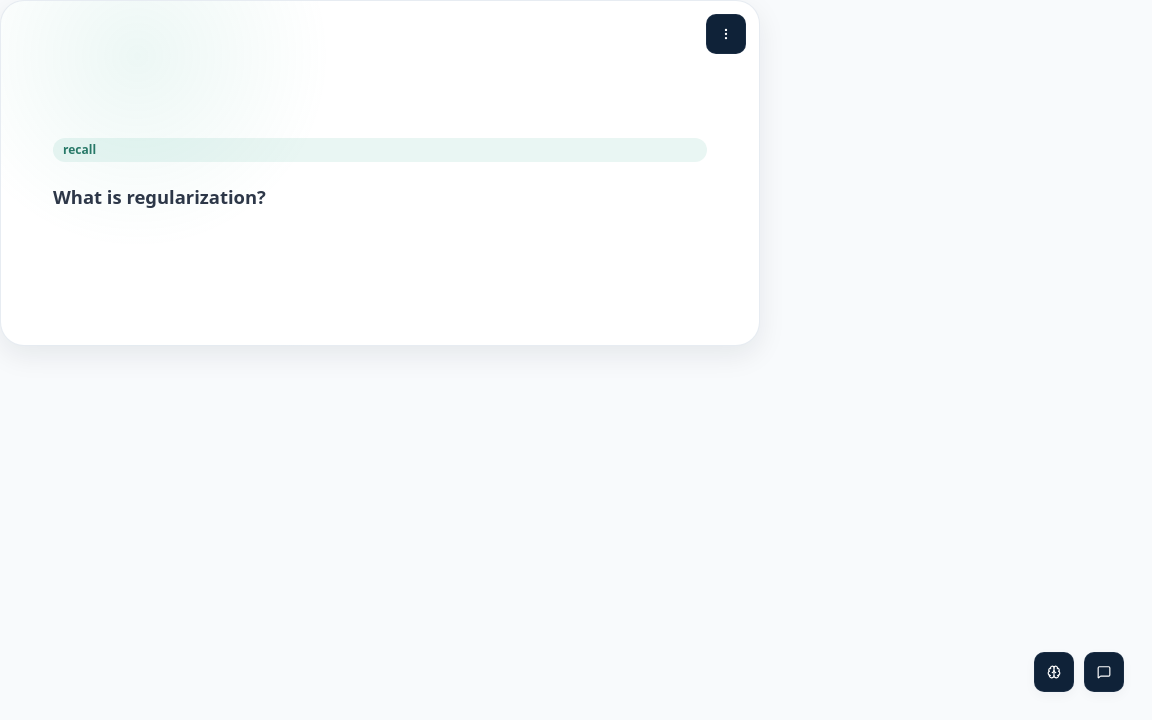
ReviewSession › keeps the evaluation draft when closing and reopening the dialog for the same card
Click the button named "self-assessment" at [1054, 672], box [1034,652,1074,692]
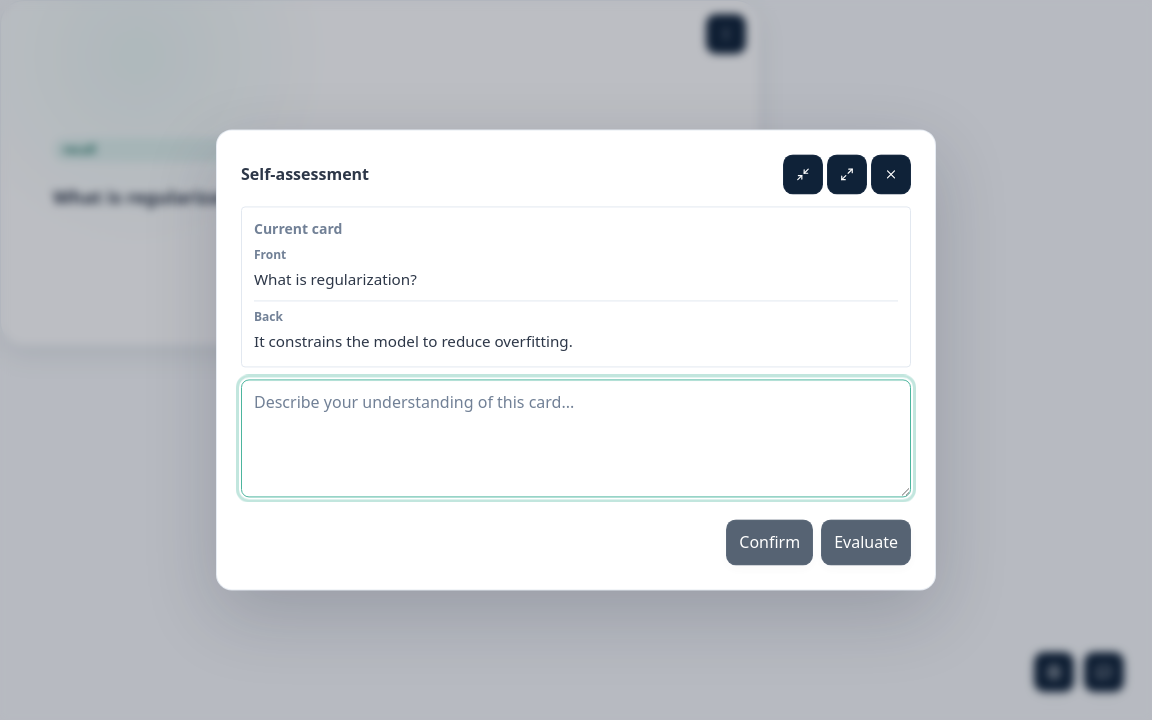
Type "Regularization constrains model behavior." into the text box with placeholder "Describe your understanding of this card..." at [576, 439], box [241,380,911,498]
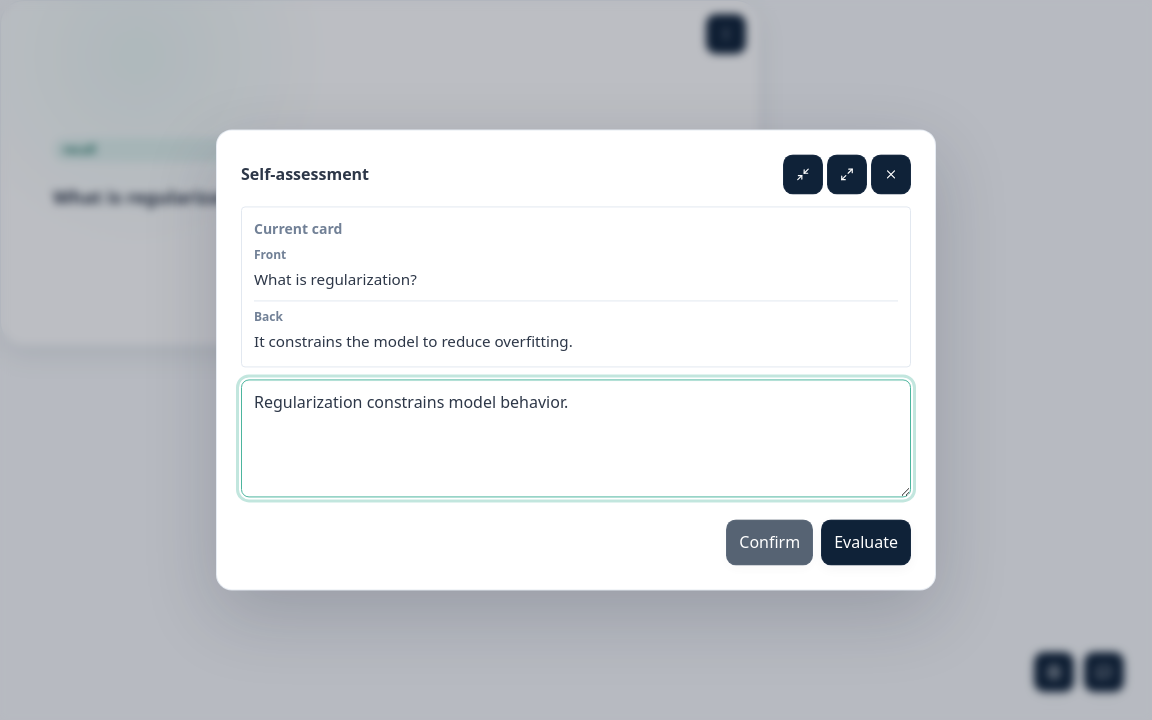
Click the button named "minimize evaluation window" at [803, 174], box [783,154,823,194]
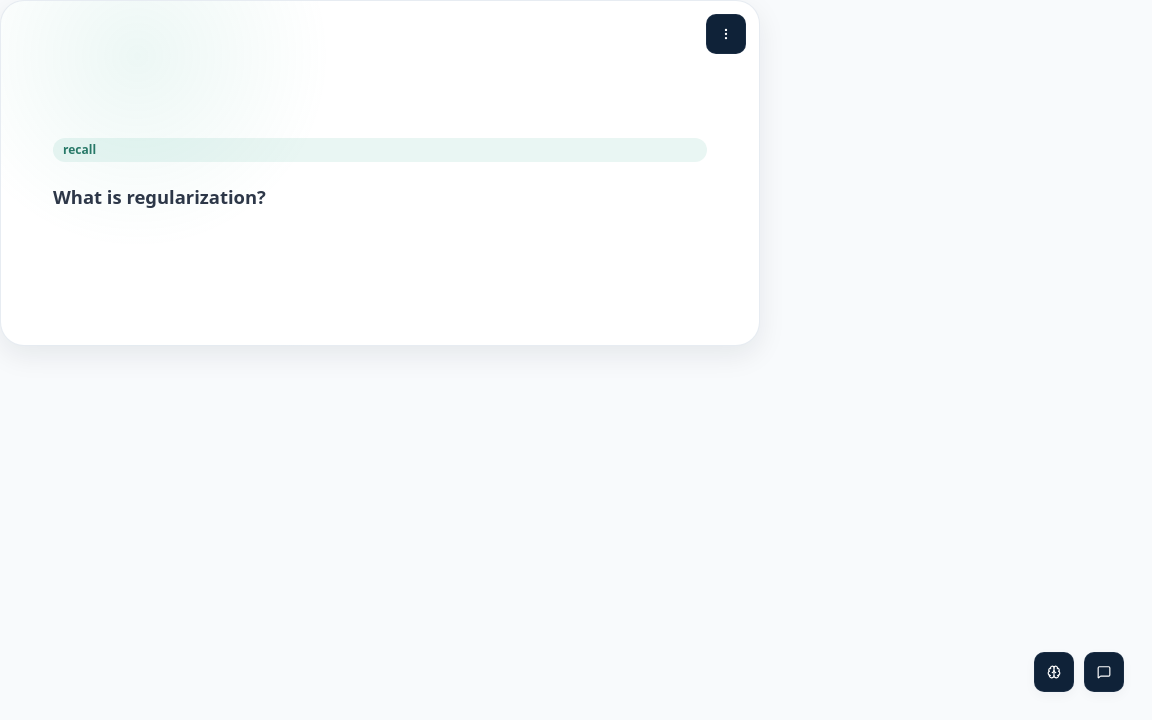
Click the button named "self-assessment" at [1054, 672], box [1034,652,1074,692]
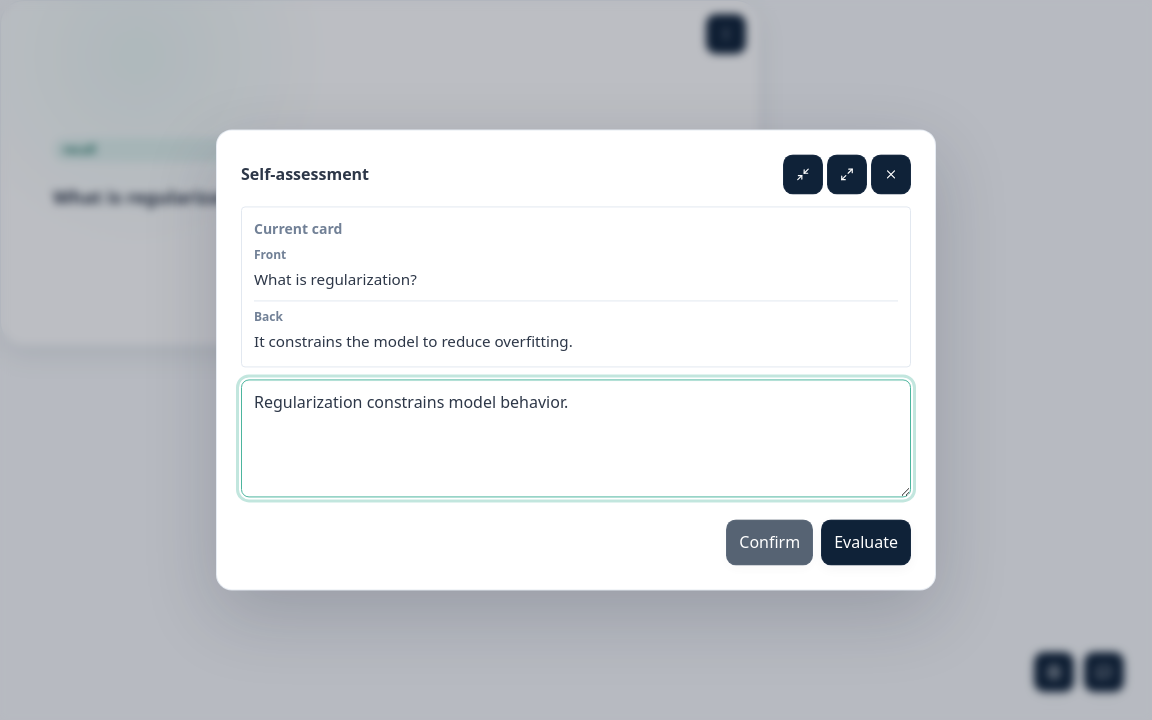
Expected: the text box showing "Regularization constrains model behavior." is shown, [241,380,911,498]
Expected: the text "What is regularization?" is shown, [254,269,417,289]
Expected: the text "It constrains the model to reduce overfitting." is shown, [254,332,573,352]
